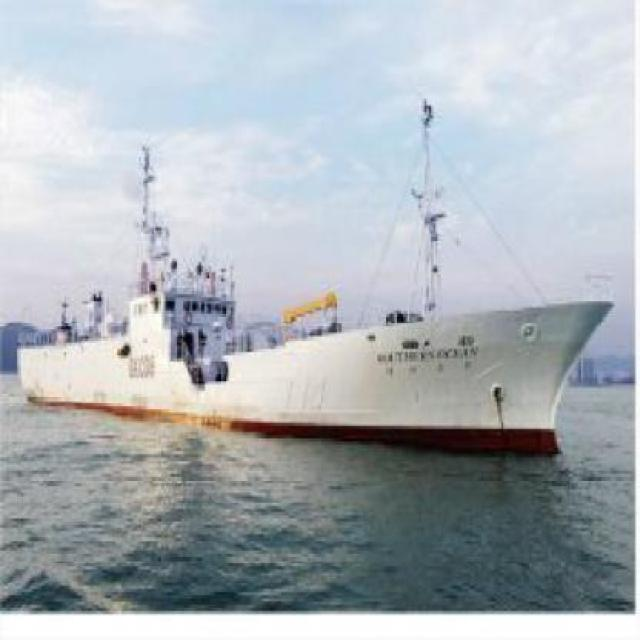fish-b: (16, 93, 628, 478)
